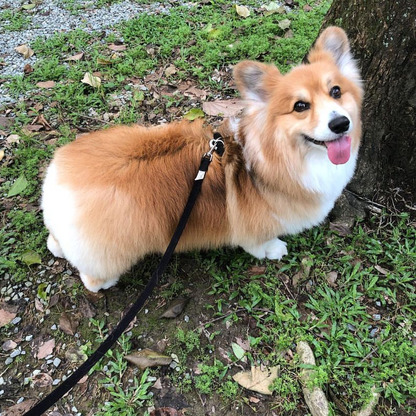Corgi: (37, 24, 374, 252)
